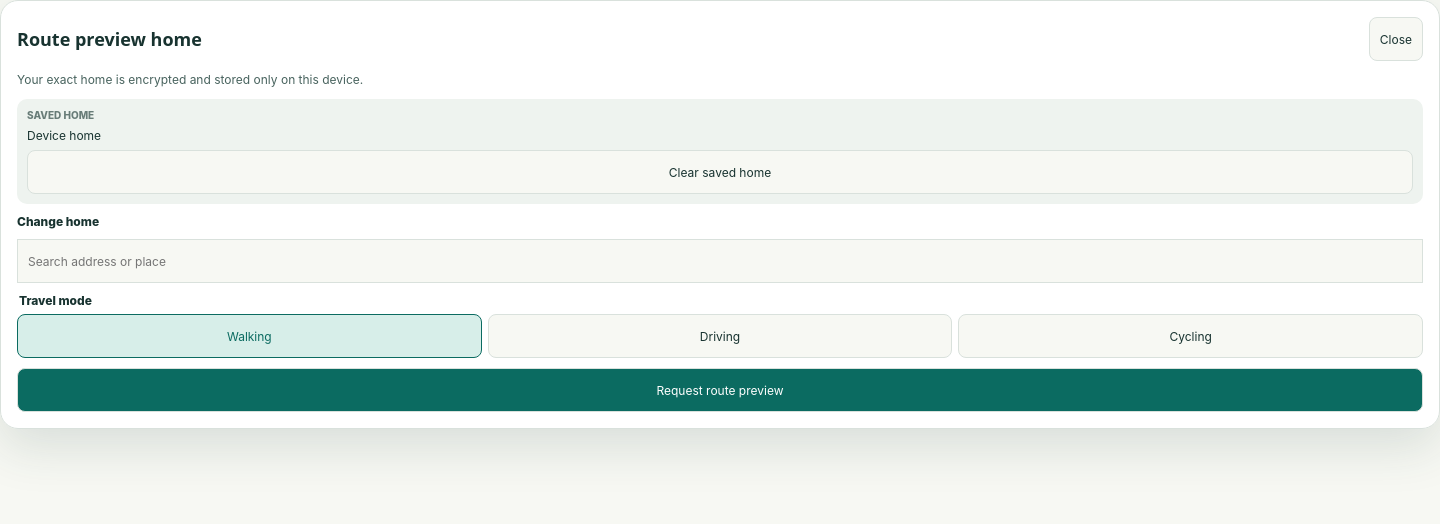
Test: HomeRoutePanel › distinguishes a valid empty route response from provider failure
The image size is (1440, 524).
Click the button "Request route preview" at coordinates (720, 390), box [17, 368, 1423, 412]
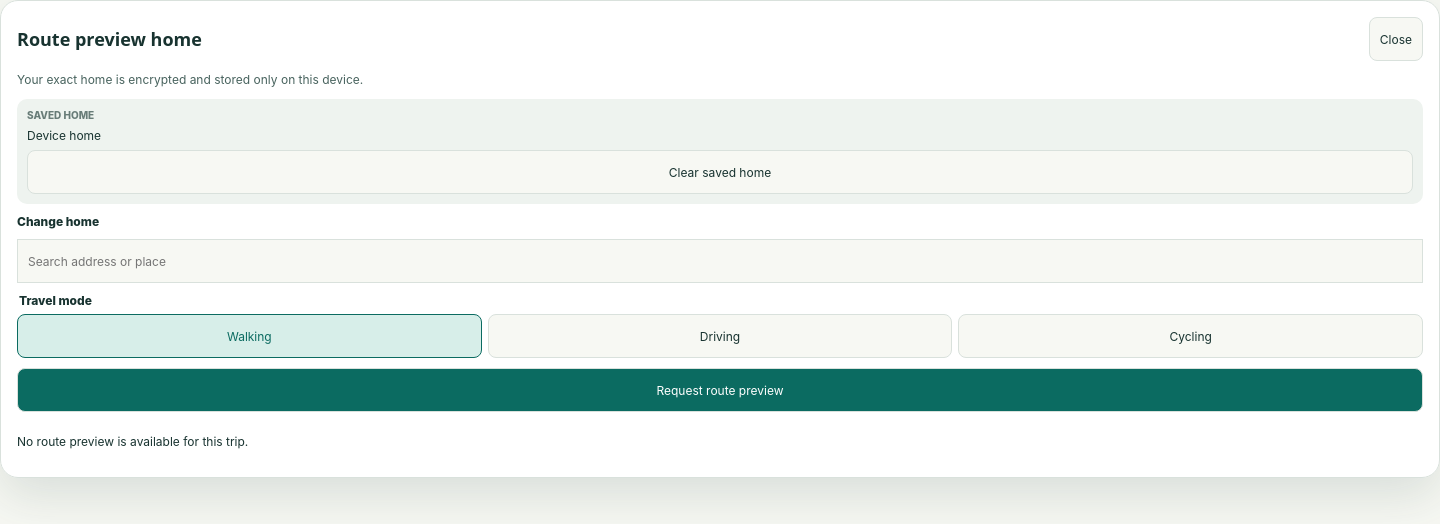
Expected: the text "No route preview is available for this trip." is shown, [17, 434, 248, 449]
